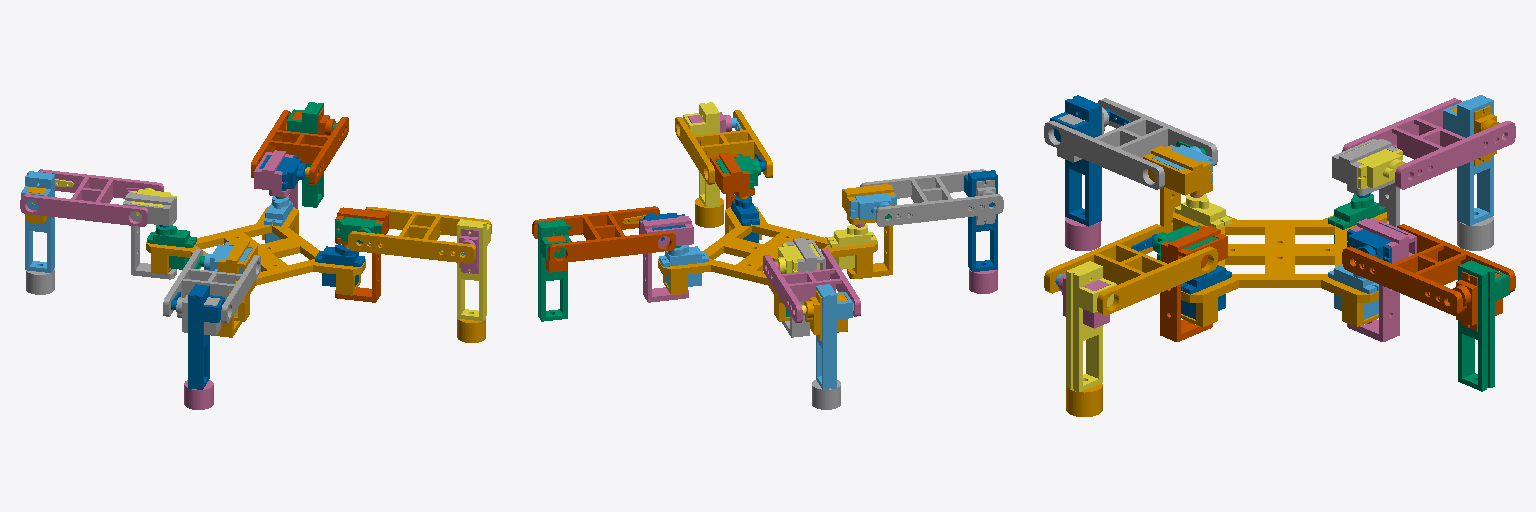
--- Render facts (derived) ---
The picture shows the robot from 3 angles, left to right: view 1: azimuth 30°, elevation 25°; view 2: azimuth 150°, elevation 25°; view 3: azimuth 270°, elevation 25°; orthographic projection.
Model climbingrobot_exported with 49 links and 48 joints (12 continuous, 36 fixed), rooted at base_link, posed all joints at 0.
Visible links, largest first — view 1: base_link, femur31, femur11, femur41, femur21, tibia21, coxa11, tibia11, tibia31, coxa31, tibia41, coxa41 (+11 smaller); view 2: base_link, femur21, femur41, femur31, femur11, tibia11, tibia41, coxa41, tibia21, coxa21, tibia31, coxa31 (+11 smaller); view 3: base_link, femur21, femur31, femur11, femur41, tibia31, tibia41, tibia21, tibia11, coxa31, coxa21, coxa41 (+15 smaller).
Link boxes in pixels (bbox=[...]): base_link: bbox=[146, 207, 365, 321]; femur31: bbox=[348, 207, 491, 263]; femur11: bbox=[20, 169, 163, 226]; femur41: bbox=[251, 110, 348, 184]; femur21: bbox=[163, 248, 260, 322]; tibia21: bbox=[188, 284, 224, 389]; coxa11: bbox=[123, 192, 176, 279]; tibia11: bbox=[21, 171, 54, 272]; tibia31: bbox=[457, 219, 490, 320]; coxa31: bbox=[335, 207, 388, 302]; tibia41: bbox=[287, 102, 323, 207]; coxa41: bbox=[254, 150, 297, 208]; base_link: bbox=[658, 206, 877, 321]; femur21: bbox=[860, 169, 1003, 226]; femur41: bbox=[532, 206, 675, 263]; femur31: bbox=[675, 110, 772, 184]; femur11: bbox=[763, 248, 860, 322]; tibia11: bbox=[816, 284, 852, 389]; tibia41: bbox=[538, 220, 571, 321]; coxa41: bbox=[640, 216, 693, 302]; tibia21: bbox=[964, 170, 997, 271]; coxa21: bbox=[842, 184, 895, 278]; tibia31: bbox=[683, 102, 719, 207]; coxa31: bbox=[710, 152, 754, 208]; base_link: bbox=[1173, 212, 1386, 326]; femur21: bbox=[1044, 98, 1217, 189]; femur31: bbox=[1044, 224, 1217, 315]; femur11: bbox=[1342, 98, 1515, 189]; femur41: bbox=[1342, 224, 1515, 315]; tibia31: bbox=[1066, 261, 1116, 391]; tibia41: bbox=[1458, 260, 1509, 391]; tibia21: bbox=[1050, 95, 1101, 226]; tibia11: bbox=[1443, 95, 1493, 225]; coxa31: bbox=[1160, 226, 1227, 341]; coxa21: bbox=[1143, 146, 1212, 233]; coxa41: bbox=[1347, 218, 1416, 341].
Size in the robot's own frame: 0.2579 by 0.2579 by 0.0852 metres.
48 mesh visuals loaded from 49 distinct referenced files (48 binary STL); not drawn: 1 (reference not matched to a file when rendering).

URDF robot description (climbingrobot_exported):
<?xml version="1.0" ?>
<robot name="climbingrobot_exported">

<material name="silver">
  <color rgba="1.000 1.000 1.000 1.000"/>
</material>

<link name="base_link">
  <inertial>
    <origin rpy="0 0 0" xyz="-2.3561372287310188e-15 7.82959340837108e-17 -1.031082645594673e-05"/>
    <mass value="0.03513113136020855"/>
    <inertia ixx="4.330327731042047e-05" ixy="6.310867961970989e-19" ixz="-3.130730601860279e-19" iyy="4.3346435253627344e-05" iyz="-1.8065631053765598e-18" izz="8.477337904759145e-05"/>
  </inertial>
  <visual>
    <origin rpy="0 0 0" xyz="0 0 0"/>
    <geometry>
      <mesh filename="meshes/base_link.stl" scale="0.001 0.001 0.001"/>
    </geometry>
    <material name="silver"/>
    <material/>
  </visual>
  <collision>
    <origin rpy="0 0 0" xyz="0 0 0"/>
    <geometry>
      <mesh filename="meshes/base_link.stl" scale="0.001 0.001 0.001"/>
    </geometry>
  </collision>
</link>

<link name="SG90_v141servo1">
  <inertial>
    <origin rpy="0 0 0" xyz="0.00812342267848757 0.008123422678486841 -0.004203010355219587"/>
    <mass value="0.01188700094392384"/>
    <inertia ixx="1.0262265710398804e-06" ixy="-2.1220227675882003e-07" ixz="-2.199969893497919e-08" iyy="1.026226571039894e-06" iyz="-2.199969893495203e-08" izz="7.367191028625778e-07"/>
  </inertial>
  <visual>
    <origin rpy="0 0 0" xyz="-0.033879 -0.033879 -0.005"/>
    <geometry>
      <mesh filename="meshes/SG90_v141servo1.stl" scale="0.001 0.001 0.001"/>
    </geometry>
    <material name="silver"/>
    <material/>
  </visual>
  <collision>
    <origin rpy="0 0 0" xyz="-0.033879 -0.033879 -0.005"/>
    <geometry>
      <mesh filename="meshes/SG90_v141servo1.stl" scale="0.001 0.001 0.001"/>
    </geometry>
  </collision>
</link>

<link name="SG90_v142servo1">
  <inertial>
    <origin rpy="0 0 0" xyz="-0.008123422678486716 0.008123422678487376 -0.0042030103552191745"/>
    <mass value="0.01188700094392384"/>
    <inertia ixx="1.0262265710398905e-06" ixy="2.1220227675882342e-07" ixz="2.199969893497543e-08" iyy="1.0262265710398872e-06" iyz="-2.19996989349551e-08" izz="7.367191028625846e-07"/>
  </inertial>
  <visual>
    <origin rpy="0 0 0" xyz="0.033879 -0.033879 -0.005"/>
    <geometry>
      <mesh filename="meshes/SG90_v142servo1.stl" scale="0.001 0.001 0.001"/>
    </geometry>
    <material name="silver"/>
    <material/>
  </visual>
  <collision>
    <origin rpy="0 0 0" xyz="0.033879 -0.033879 -0.005"/>
    <geometry>
      <mesh filename="meshes/SG90_v142servo1.stl" scale="0.001 0.001 0.001"/>
    </geometry>
  </collision>
</link>

<link name="SG90_v143servo1">
  <inertial>
    <origin rpy="0 0 0" xyz="-0.00812342267848764 -0.00812342267848725 -0.004203010355223124"/>
    <mass value="0.01188700094392384"/>
    <inertia ixx="1.0262265710398872e-06" ixy="-2.1220227675882342e-07" ixz="2.1999698934957007e-08" iyy="1.0262265710398905e-06" iyz="2.1999698934981624e-08" izz="7.367191028625846e-07"/>
  </inertial>
  <visual>
    <origin rpy="0 0 0" xyz="0.033879 0.033879 -0.005"/>
    <geometry>
      <mesh filename="meshes/SG90_v143servo1.stl" scale="0.001 0.001 0.001"/>
    </geometry>
    <material name="silver"/>
    <material/>
  </visual>
  <collision>
    <origin rpy="0 0 0" xyz="0.033879 0.033879 -0.005"/>
    <geometry>
      <mesh filename="meshes/SG90_v143servo1.stl" scale="0.001 0.001 0.001"/>
    </geometry>
  </collision>
</link>

<link name="SG90_v144servo1">
  <inertial>
    <origin rpy="0 0 0" xyz="0.00812342267848673 -0.008123422678487695 -0.004203010355223456"/>
    <mass value="0.01188700094392384"/>
    <inertia ixx="1.0262265710398905e-06" ixy="2.122022767588268e-07" ixz="-2.1999698934957377e-08" iyy="1.0262265710398838e-06" iyz="2.1999698934981412e-08" izz="7.367191028625982e-07"/>
  </inertial>
  <visual>
    <origin rpy="0 0 0" xyz="-0.033879 0.033879 -0.005"/>
    <geometry>
      <mesh filename="meshes/SG90_v144servo1.stl" scale="0.001 0.001 0.001"/>
    </geometry>
    <material name="silver"/>
    <material/>
  </visual>
  <collision>
    <origin rpy="0 0 0" xyz="-0.033879 0.033879 -0.005"/>
    <geometry>
      <mesh filename="meshes/SG90_v144servo1.stl" scale="0.001 0.001 0.001"/>
    </geometry>
  </collision>
</link>

<link name="coxa31">
  <inertial>
    <origin rpy="0 0 0" xyz="0.009871266550128203 -0.004775257127175067 -0.004359762984694017"/>
    <mass value="0.007837772837962017"/>
    <inertia ixx="3.729329129582059e-06" ixy="3.1566494508322056e-07" ixz="-1.029336248256677e-07" iyy="3.5502512993738864e-06" iyz="-5.241695255109662e-07" izz="1.2576574418923949e-06"/>
  </inertial>
  <visual>
    <origin rpy="0 0 0" xyz="-0.045723 0.045723 -0.02065"/>
    <geometry>
      <mesh filename="meshes/coxa31.stl" scale="0.001 0.001 0.001"/>
    </geometry>
    <material name="silver"/>
    <material/>
  </visual>
  <collision>
    <origin rpy="0 0 0" xyz="-0.045723 0.045723 -0.02065"/>
    <geometry>
      <mesh filename="meshes/coxa31.stl" scale="0.001 0.001 0.001"/>
    </geometry>
  </collision>
</link>

<link name="coxa41">
  <inertial>
    <origin rpy="0 0 0" xyz="0.0047752571271741165 0.009871266550127197 -0.004359762984689007"/>
    <mass value="0.007837772837962017"/>
    <inertia ixx="3.550251299373822e-06" ixy="-3.156649450832341e-07" ixz="5.241695255110458e-07" iyy="3.7293291295820795e-06" iyz="-1.0293362482555336e-07" izz="1.2576574418924288e-06"/>
  </inertial>
  <visual>
    <origin rpy="0 0 0" xyz="-0.045723 -0.045723 -0.02065"/>
    <geometry>
      <mesh filename="meshes/coxa41.stl" scale="0.001 0.001 0.001"/>
    </geometry>
    <material name="silver"/>
    <material/>
  </visual>
  <collision>
    <origin rpy="0 0 0" xyz="-0.045723 -0.045723 -0.02065"/>
    <geometry>
      <mesh filename="meshes/coxa41.stl" scale="0.001 0.001 0.001"/>
    </geometry>
  </collision>
</link>

<link name="coxa11">
  <inertial>
    <origin rpy="0 0 0" xyz="-0.00987126655012787 0.004775257127173443 -0.004359762984688723"/>
    <mass value="0.007837772837962017"/>
    <inertia ixx="3.7293291295820558e-06" ixy="3.156649450832138e-07" ixz="1.0293362482567618e-07" iyy="3.550251299373785e-06" iyz="5.241695255111737e-07" izz="1.2576574418924965e-06"/>
  </inertial>
  <visual>
    <origin rpy="0 0 0" xyz="0.045723 -0.045723 -0.02065"/>
    <geometry>
      <mesh filename="meshes/coxa11.stl" scale="0.001 0.001 0.001"/>
    </geometry>
    <material name="silver"/>
    <material/>
  </visual>
  <collision>
    <origin rpy="0 0 0" xyz="0.045723 -0.045723 -0.02065"/>
    <geometry>
      <mesh filename="meshes/coxa11.stl" scale="0.001 0.001 0.001"/>
    </geometry>
  </collision>
</link>

<link name="coxa21">
  <inertial>
    <origin rpy="0 0 0" xyz="-0.00477525712717379 -0.009871266550128821 -0.004359762984693972"/>
    <mass value="0.007837772837962017"/>
    <inertia ixx="3.550251299373839e-06" ixy="-3.156649450831833e-07" ixz="-5.241695255110949e-07" iyy="3.729329129582066e-06" iyz="1.0293362482578629e-07" izz="1.257657441892449e-06"/>
  </inertial>
  <visual>
    <origin rpy="0 0 0" xyz="0.045723 0.045723 -0.02065"/>
    <geometry>
      <mesh filename="meshes/coxa21.stl" scale="0.001 0.001 0.001"/>
    </geometry>
    <material name="silver"/>
    <material/>
  </visual>
  <collision>
    <origin rpy="0 0 0" xyz="0.045723 0.045723 -0.02065"/>
    <geometry>
      <mesh filename="meshes/coxa21.stl" scale="0.001 0.001 0.001"/>
    </geometry>
  </collision>
</link>

<link name="SG90_v145servo1">
  <inertial>
    <origin rpy="0 0 0" xyz="0.010934706156326385 0.0049912605619404915 -2.060851489460447e-15"/>
    <mass value="0.01188700094392384"/>
    <inertia ixx="7.442594259698742e-07" ixy="3.865259570924465e-08" ixz="-3.3881317890172014e-21" iyy="8.064839711737707e-07" iyz="-2.710505431213761e-20" izz="1.2384288477987072e-06"/>
  </inertial>
  <visual>
    <origin rpy="0 0 0" xyz="0.062039 0.058009 -0.031025"/>
    <geometry>
      <mesh filename="meshes/SG90_v145servo1.stl" scale="0.001 0.001 0.001"/>
    </geometry>
    <material name="silver"/>
    <material/>
  </visual>
  <collision>
    <origin rpy="0 0 0" xyz="0.062039 0.058009 -0.031025"/>
    <geometry>
      <mesh filename="meshes/SG90_v145servo1.stl" scale="0.001 0.001 0.001"/>
    </geometry>
  </collision>
</link>

<link name="SG90_v146servo1">
  <inertial>
    <origin rpy="0 0 0" xyz="-0.004991260561941942 0.010934706156324386 -2.5431046157819992e-15"/>
    <mass value="0.01188700094392384"/>
    <inertia ixx="8.064839711737707e-07" ixy="-3.865259570925143e-08" ixz="6.776263578034403e-21" iyy="7.442594259698674e-07" iyz="-2.710505431213761e-20" izz="1.2384288477987072e-06"/>
  </inertial>
  <visual>
    <origin rpy="0 0 0" xyz="-0.058009 0.062039 -0.031025"/>
    <geometry>
      <mesh filename="meshes/SG90_v146servo1.stl" scale="0.001 0.001 0.001"/>
    </geometry>
    <material name="silver"/>
    <material/>
  </visual>
  <collision>
    <origin rpy="0 0 0" xyz="-0.058009 0.062039 -0.031025"/>
    <geometry>
      <mesh filename="meshes/SG90_v146servo1.stl" scale="0.001 0.001 0.001"/>
    </geometry>
  </collision>
</link>

<link name="SG90_v147servo1">
  <inertial>
    <origin rpy="0 0 0" xyz="0.004991260561942129 -0.01093470615632746 2.824129818890242e-15"/>
    <mass value="0.01188700094392384"/>
    <inertia ixx="8.064839711737911e-07" ixy="-3.865259570924465e-08" ixz="0.0" iyy="7.442594259698742e-07" iyz="-2.0328790734103208e-20" izz="1.2384288477987072e-06"/>
  </inertial>
  <visual>
    <origin rpy="0 0 0" xyz="0.058009 -0.062039 -0.031025"/>
    <geometry>
      <mesh filename="meshes/SG90_v147servo1.stl" scale="0.001 0.001 0.001"/>
    </geometry>
    <material name="silver"/>
    <material/>
  </visual>
  <collision>
    <origin rpy="0 0 0" xyz="0.058009 -0.062039 -0.031025"/>
    <geometry>
      <mesh filename="meshes/SG90_v147servo1.stl" scale="0.001 0.001 0.001"/>
    </geometry>
  </collision>
</link>

<link name="SG90_v148servo1">
  <inertial>
    <origin rpy="0 0 0" xyz="-0.010934706156326177 -0.004991260561943427 2.4251434194155763e-15"/>
    <mass value="0.01188700094392384"/>
    <inertia ixx="7.44259425969881e-07" ixy="3.8652595709237874e-08" ixz="1.0164395367051604e-20" iyy="8.064839711737978e-07" iyz="-2.0328790734103208e-20" izz="1.2384288477987207e-06"/>
  </inertial>
  <visual>
    <origin rpy="0 0 0" xyz="-0.062039 -0.058009 -0.031025"/>
    <geometry>
      <mesh filename="meshes/SG90_v148servo1.stl" scale="0.001 0.001 0.001"/>
    </geometry>
    <material name="silver"/>
    <material/>
  </visual>
  <collision>
    <origin rpy="0 0 0" xyz="-0.062039 -0.058009 -0.031025"/>
    <geometry>
      <mesh filename="meshes/SG90_v148servo1.stl" scale="0.001 0.001 0.001"/>
    </geometry>
  </collision>
</link>

<link name="femur41">
  <inertial>
    <origin rpy="0 0 0" xyz="0.013365496497606197 0.03828276190210535 -1.5716594692349872e-12"/>
    <mass value="0.012162143940940593"/>
    <inertia ixx="4.834490015586811e-06" ixy="-6.77229227869793e-07" ixz="-2.1760615228141877e-16" iyy="4.831383351298508e-06" iyz="2.5299180068591443e-16" izz="9.304210074741718e-06"/>
  </inertial>
  <visual>
    <origin rpy="0 0 0" xyz="-0.068863 -0.0427 -0.031025"/>
    <geometry>
      <mesh filename="meshes/femur41.stl" scale="0.001 0.001 0.001"/>
    </geometry>
    <material name="silver"/>
    <material/>
  </visual>
  <collision>
    <origin rpy="0 0 0" xyz="-0.068863 -0.0427 -0.031025"/>
    <geometry>
      <mesh filename="meshes/femur41.stl" scale="0.001 0.001 0.001"/>
    </geometry>
  </collision>
</link>

<link name="femur11">
  <inertial>
    <origin rpy="0 0 0" xyz="-0.03828276190210672 0.013365496497604434 -1.570483326718275e-12"/>
    <mass value="0.012162143940940593"/>
    <inertia ixx="4.831383351298495e-06" ixy="6.77229227869793e-07" ixz="-2.531205496938971e-16" iyy="4.834490015586784e-06" iyz="-2.178094401887598e-16" izz="9.304210074741637e-06"/>
  </inertial>
  <visual>
    <origin rpy="0 0 0" xyz="0.0427 -0.068863 -0.031025"/>
    <geometry>
      <mesh filename="meshes/femur11.stl" scale="0.001 0.001 0.001"/>
    </geometry>
    <material name="silver"/>
    <material/>
  </visual>
  <collision>
    <origin rpy="0 0 0" xyz="0.0427 -0.068863 -0.031025"/>
    <geometry>
      <mesh filename="meshes/femur11.stl" scale="0.001 0.001 0.001"/>
    </geometry>
  </collision>
</link>

<link name="femur21">
  <inertial>
    <origin rpy="0 0 0" xyz="-0.013365496497605628 -0.03828276190210851 -1.578032843285726e-12"/>
    <mass value="0.012162143940940593"/>
    <inertia ixx="4.834490015586797e-06" ixy="-6.77229227869793e-07" ixz="2.1757904722710664e-16" iyy="4.831383351298508e-06" iyz="-2.5339160023701846e-16" izz="9.304210074741718e-06"/>
  </inertial>
  <visual>
    <origin rpy="0 0 0" xyz="0.068863 0.0427 -0.031025"/>
    <geometry>
      <mesh filename="meshes/femur21.stl" scale="0.001 0.001 0.001"/>
    </geometry>
    <material name="silver"/>
    <material/>
  </visual>
  <collision>
    <origin rpy="0 0 0" xyz="0.068863 0.0427 -0.031025"/>
    <geometry>
      <mesh filename="meshes/femur21.stl" scale="0.001 0.001 0.001"/>
    </geometry>
  </collision>
</link>

<link name="femur31">
  <inertial>
    <origin rpy="0 0 0" xyz="0.03828276190210718 -0.013365496497608223 -1.5786608131840296e-12"/>
    <mass value="0.012162143940940593"/>
    <inertia ixx="4.831383351298481e-06" ixy="6.772292278697795e-07" ixz="2.5322896991114563e-16" iyy="4.834490015586757e-06" iyz="2.1738253558334364e-16" izz="9.304210074741637e-06"/>
  </inertial>
  <visual>
    <origin rpy="0 0 0" xyz="-0.0427 0.068863 -0.031025"/>
    <geometry>
      <mesh filename="meshes/femur31.stl" scale="0.001 0.001 0.001"/>
    </geometry>
    <material name="silver"/>
    <material/>
  </visual>
  <collision>
    <origin rpy="0 0 0" xyz="-0.0427 0.068863 -0.031025"/>
    <geometry>
      <mesh filename="meshes/femur31.stl" scale="0.001 0.001 0.001"/>
    </geometry>
  </collision>
</link>

<link name="servo_horn31">
  <inertial>
    <origin rpy="0 0 0" xyz="-0.002608204106163345 0.004443229167919324 8.756537162035727e-14"/>
    <mass value="0.00028369670242485873"/>
    <inertia ixx="5.434793407380799e-09" ixy="5.115865249621474e-09" ixz="-9.497356921088843e-20" iyy="7.114597025464578e-09" iyz="6.776263578034403e-20" izz="1.0801986166025414e-08"/>
  </inertial>
  <visual>
    <origin rpy="0 0 0" xyz="-0.094319 0.120482 -0.031025"/>
    <geometry>
      <mesh filename="meshes/servo_horn31.stl" scale="0.001 0.001 0.001"/>
    </geometry>
    <material name="silver"/>
    <material/>
  </visual>
  <collision>
    <origin rpy="0 0 0" xyz="-0.094319 0.120482 -0.031025"/>
    <geometry>
      <mesh filename="meshes/servo_horn31.stl" scale="0.001 0.001 0.001"/>
    </geometry>
  </collision>
</link>

<link name="servo_horn41">
  <inertial>
    <origin rpy="0 0 0" xyz="-0.004443229167921572 -0.0026082041061656347 9.701961456443087e-14"/>
    <mass value="0.00028369670242485873"/>
    <inertia ixx="7.114597025465002e-09" ixy="-5.1158652496218976e-09" ixz="-6.818615225397118e-20" iyy="5.434793407379105e-09" iyz="-9.539708568451558e-20" izz="1.0801986166024567e-08"/>
  </inertial>
  <visual>
    <origin rpy="0 0 0" xyz="-0.120482 -0.094319 -0.031025"/>
    <geometry>
      <mesh filename="meshes/servo_horn41.stl" scale="0.001 0.001 0.001"/>
    </geometry>
    <material name="silver"/>
    <material/>
  </visual>
  <collision>
    <origin rpy="0 0 0" xyz="-0.120482 -0.094319 -0.031025"/>
    <geometry>
      <mesh filename="meshes/servo_horn41.stl" scale="0.001 0.001 0.001"/>
    </geometry>
  </collision>
</link>

<link name="servo_horn11">
  <inertial>
    <origin rpy="0 0 0" xyz="0.002608204106164233 -0.004443229167923127 9.952108581678942e-14"/>
    <mass value="0.00028369670242485873"/>
    <inertia ixx="5.434793407381646e-09" ixy="5.115865249621474e-09" ixz="9.560884392132915e-20" iyy="7.114597025465002e-09" iyz="-6.860966872759833e-20" izz="1.0801986166025414e-08"/>
  </inertial>
  <visual>
    <origin rpy="0 0 0" xyz="0.094319 -0.120482 -0.031025"/>
    <geometry>
      <mesh filename="meshes/servo_horn11.stl" scale="0.001 0.001 0.001"/>
    </geometry>
    <material name="silver"/>
    <material/>
  </visual>
  <collision>
    <origin rpy="0 0 0" xyz="0.094319 -0.120482 -0.031025"/>
    <geometry>
      <mesh filename="meshes/servo_horn11.stl" scale="0.001 0.001 0.001"/>
    </geometry>
  </collision>
</link>

<link name="servo_horn21">
  <inertial>
    <origin rpy="0 0 0" xyz="0.004443229167921059 0.002608204106160708 8.674311269274426e-14"/>
    <mass value="0.00028369670242485873"/>
    <inertia ixx="7.114597025465849e-09" ixy="-5.115865249620627e-09" ixz="6.79743940171576e-20" iyy="5.434793407379105e-09" iyz="9.455005273726128e-20" izz="1.0801986166025414e-08"/>
  </inertial>
  <visual>
    <origin rpy="0 0 0" xyz="0.120482 0.094319 -0.031025"/>
    <geometry>
      <mesh filename="meshes/servo_horn21.stl" scale="0.001 0.001 0.001"/>
    </geometry>
    <material name="silver"/>
    <material/>
  </visual>
  <collision>
    <origin rpy="0 0 0" xyz="0.120482 0.094319 -0.031025"/>
    <geometry>
      <mesh filename="meshes/servo_horn21.stl" scale="0.001 0.001 0.001"/>
    </geometry>
  </collision>
</link>

<link name="SG90_detached_v41servo1">
  <inertial>
    <origin rpy="0 0 0" xyz="-0.011575392200275356 0.011574606660968212 -0.004278813971776114"/>
    <mass value="0.014616430773754501"/>
    <inertia ixx="1.176913486638522e-06" ixy="3.701775929552595e-07" ixz="-9.512408372304464e-08" iyy="1.1769134866494724e-06" iyz="9.512408371862652e-08" izz="1.0612413528235864e-06"/>
  </inertial>
  <visual>
    <origin rpy="0 0 0" xyz="-0.119188 -0.095613 -0.031025"/>
    <geometry>
      <mesh filename="meshes/SG90_detached_v41servo1.stl" scale="0.001 0.001 0.001"/>
    </geometry>
    <material name="silver"/>
    <material/>
  </visual>
  <collision>
    <origin rpy="0 0 0" xyz="-0.119188 -0.095613 -0.031025"/>
    <geometry>
      <mesh filename="meshes/SG90_detached_v41servo1.stl" scale="0.001 0.001 0.001"/>
    </geometry>
  </collision>
</link>

<link name="SG90_detached_v43servo1">
  <inertial>
    <origin rpy="0 0 0" xyz="0.011574606660969808 0.011575392200273496 -0.004278813971786272"/>
    <mass value="0.014616430773754501"/>
    <inertia ixx="1.1769134866494995e-06" ixy="-3.701775929552324e-07" ixz="9.512408371859941e-08" iyy="1.1769134866384948e-06" iyz="9.51240837230853e-08" izz="1.0612413528236406e-06"/>
  </inertial>
  <visual>
    <origin rpy="0 0 0" xyz="-0.095613 0.119188 -0.031025"/>
    <geometry>
      <mesh filename="meshes/SG90_detached_v43servo1.stl" scale="0.001 0.001 0.001"/>
    </geometry>
    <material name="silver"/>
    <material/>
  </visual>
  <collision>
    <origin rpy="0 0 0" xyz="-0.095613 0.119188 -0.031025"/>
    <geometry>
      <mesh filename="meshes/SG90_detached_v43servo1.stl" scale="0.001 0.001 0.001"/>
    </geometry>
  </collision>
</link>

<link name="SG90_detached_v42servo1">
  <inertial>
    <origin rpy="0 0 0" xyz="0.011575392200275356 -0.011574606660972958 -0.004278813971787462"/>
    <mass value="0.014616430773754501"/>
    <inertia ixx="1.176913486638549e-06" ixy="3.701775929552324e-07" ixz="9.512408372307852e-08" iyy="1.1769134866495537e-06" iyz="-9.512408371862652e-08" izz="1.0612413528236948e-06"/>
  </inertial>
  <visual>
    <origin rpy="0 0 0" xyz="0.119188 0.095613 -0.031025"/>
    <geometry>
      <mesh filename="meshes/SG90_detached_v42servo1.stl" scale="0.001 0.001 0.001"/>
    </geometry>
    <material name="silver"/>
    <material/>
  </visual>
  <collision>
    <origin rpy="0 0 0" xyz="0.119188 0.095613 -0.031025"/>
    <geometry>
      <mesh filename="meshes/SG90_detached_v42servo1.stl" scale="0.001 0.001 0.001"/>
    </geometry>
  </collision>
</link>

<link name="SG90_detached_v44servo1">
  <inertial>
    <origin rpy="0 0 0" xyz="-0.0115746066609691 -0.01157539220027691 -0.004278813971774792"/>
    <mass value="0.014616430773754501"/>
    <inertia ixx="1.1769134866494724e-06" ixy="-3.701775929552324e-07" ixz="-9.512408371862652e-08" iyy="1.1769134866385761e-06" iyz="-9.512408372307175e-08" izz="1.0612413528236948e-06"/>
  </inertial>
  <visual>
    <origin rpy="0 0 0" xyz="0.095613 -0.119188 -0.031025"/>
    <geometry>
      <mesh filename="meshes/SG90_detached_v44servo1.stl" scale="0.001 0.001 0.001"/>
    </geometry>
    <material name="silver"/>
    <material/>
  </visual>
  <collision>
    <origin rpy="0 0 0" xyz="0.095613 -0.119188 -0.031025"/>
    <geometry>
      <mesh filename="meshes/SG90_detached_v44servo1.stl" scale="0.001 0.001 0.001"/>
    </geometry>
  </collision>
</link>

<link name="tibia11">
  <inertial>
    <origin rpy="0 0 0" xyz="-0.003471671715291502 -0.0037763509234774034 -0.025561054706875162"/>
    <mass value="0.007707264333040497"/>
    <inertia ixx="3.607355199205736e-06" ixy="7.352659326611448e-08" ixz="1.7136019275137177e-07" iyy="3.613256803894753e-06" iyz="1.5999588737877806e-07" izz="5.37022351107671e-07"/>
  </inertial>
  <visual>
    <origin rpy="0 0 0" xyz="0.105385 -0.109415 -0.039325"/>
    <geometry>
      <mesh filename="meshes/tibia11.stl" scale="0.001 0.001 0.001"/>
    </geometry>
    <material name="silver"/>
    <material/>
  </visual>
  <collision>
    <origin rpy="0 0 0" xyz="0.105385 -0.109415 -0.039325"/>
    <geometry>
      <mesh filename="meshes/tibia11.stl" scale="0.001 0.001 0.001"/>
    </geometry>
  </collision>
</link>

<link name="tibia41">
  <inertial>
    <origin rpy="0 0 0" xyz="-0.0037763509234768483 0.0034716717152898785 -0.025461054706881196"/>
    <mass value="0.007707264333040497"/>
    <inertia ixx="3.6132568038947665e-06" ixy="-7.352659326612804e-08" ixz="1.599958873786222e-07" iyy="3.6073551992057225e-06" iyz="-1.713601927512803e-07" izz="5.370223511076168e-07"/>
  </inertial>
  <visual>
    <origin rpy="0 0 0" xyz="-0.109415 -0.105385 -0.039325"/>
    <geometry>
      <mesh filename="meshes/tibia41.stl" scale="0.001 0.001 0.001"/>
    </geometry>
    <material name="silver"/>
    <material/>
  </visual>
  <collision>
    <origin rpy="0 0 0" xyz="-0.109415 -0.105385 -0.039325"/>
    <geometry>
      <mesh filename="meshes/tibia41.stl" scale="0.001 0.001 0.001"/>
    </geometry>
  </collision>
</link>

<link name="tibia31">
  <inertial>
    <origin rpy="0 0 0" xyz="0.0034716717152918353 0.003776350923475183 -0.0255610547068865"/>
    <mass value="0.007707264333040497"/>
    <inertia ixx="3.6073551992057225e-06" ixy="7.352659326612804e-08" ixz="-1.713601927514192e-07" iyy="3.6132568038947936e-06" iyz="-1.5999588737849854e-07" izz="5.370223511076168e-07"/>
  </inertial>
  <visual>
    <origin rpy="0 0 0" xyz="-0.105385 0.109415 -0.039325"/>
    <geometry>
      <mesh filename="meshes/tibia31.stl" scale="0.001 0.001 0.001"/>
    </geometry>
    <material name="silver"/>
    <material/>
  </visual>
  <collision>
    <origin rpy="0 0 0" xyz="-0.105385 0.109415 -0.039325"/>
    <geometry>
      <mesh filename="meshes/tibia31.stl" scale="0.001 0.001 0.001"/>
    </geometry>
  </collision>
</link>

<link name="tibia21">
  <inertial>
    <origin rpy="0 0 0" xyz="0.0037763509234763487 -0.0034716717152955823 -0.025461054706887743"/>
    <mass value="0.007707264333040497"/>
    <inertia ixx="3.61325680389478e-06" ixy="-7.352659326611448e-08" ixz="-1.59995887378651e-07" iyy="3.607355199205736e-06" iyz="1.7136019275141243e-07" izz="5.370223511076168e-07"/>
  </inertial>
  <visual>
    <origin rpy="0 0 0" xyz="0.109415 0.105385 -0.039325"/>
    <geometry>
      <mesh filename="meshes/tibia21.stl" scale="0.001 0.001 0.001"/>
    </geometry>
    <material name="silver"/>
    <material/>
  </visual>
  <collision>
    <origin rpy="0 0 0" xyz="0.109415 0.105385 -0.039325"/>
    <geometry>
      <mesh filename="meshes/tibia21.stl" scale="0.001 0.001 0.001"/>
    </geometry>
  </collision>
</link>

<link name="magnet41">
  <inertial>
    <origin rpy="0 0 0" xyz="-4.461602763350392e-07 -3.3937910129400173e-07 -0.007545429850782305"/>
    <mass value="0.01248016344329056"/>
    <inertia ixx="5.52965472682261e-07" ixy="2.3201926491189795e-17" ixz="-1.3552527156068805e-19" iyy="5.52965472682261e-07" iyz="1.2874900798265365e-19" izz="6.358392451507743e-07"/>
  </inertial>
  <visual>
    <origin rpy="0 0 0" xyz="-0.107047 -0.107754 0.026025"/>
    <geometry>
      <mesh filename="meshes/magnet41.stl" scale="0.001 0.001 0.001"/>
    </geometry>
    <material name="silver"/>
    <material/>
  </visual>
  <collision>
    <origin rpy="0 0 0" xyz="-0.107047 -0.107754 0.026025"/>
    <geometry>
      <mesh filename="meshes/magnet41.stl" scale="0.001 0.001 0.001"/>
    </geometry>
  </collision>
</link>

<link name="magnet21">
  <inertial>
    <origin rpy="0 0 0" xyz="4.461602755301275e-07 3.3937909774128805e-07 -0.007545429850788772"/>
    <mass value="0.01248016344329056"/>
    <inertia ixx="5.52965472682261e-07" ixy="2.3174821436877657e-17" ixz="1.1519648082658485e-19" iyy="5.529654726823153e-07" iyz="-1.4230153513872246e-19" izz="6.358392451507743e-07"/>
  </inertial>
  <visual>
    <origin rpy="0 0 0" xyz="0.107047 0.107754 0.026025"/>
    <geometry>
      <mesh filename="meshes/magnet21.stl" scale="0.001 0.001 0.001"/>
    </geometry>
    <material name="silver"/>
    <material/>
  </visual>
  <collision>
    <origin rpy="0 0 0" xyz="0.107047 0.107754 0.026025"/>
    <geometry>
      <mesh filename="meshes/magnet21.stl" scale="0.001 0.001 0.001"/>
    </geometry>
  </collision>
</link>

<link name="magnet11">
  <inertial>
    <origin rpy="0 0 0" xyz="3.3937909088566087e-07 -4.4616027435051553e-07 -0.007545429850776223"/>
    <mass value="0.01248016344329056"/>
    <inertia ixx="5.529654726822339e-07" ixy="2.3174821436877657e-17" ixz="1.3552527156068805e-19" iyy="5.52965472682261e-07" iyz="-1.4907779871675686e-19" izz="6.358392451507201e-07"/>
  </inertial>
  <visual>
    <origin rpy="0 0 0" xyz="0.107754 -0.107047 0.026125"/>
    <geometry>
      <mesh filename="meshes/magnet11.stl" scale="0.001 0.001 0.001"/>
    </geometry>
    <material name="silver"/>
    <material/>
  </visual>
  <collision>
    <origin rpy="0 0 0" xyz="0.107754 -0.107047 0.026125"/>
    <geometry>
      <mesh filename="meshes/magnet11.stl" scale="0.001 0.001 0.001"/>
    </geometry>
  </collision>
</link>

<link name="magnet31">
  <inertial>
    <origin rpy="0 0 0" xyz="-3.393791015715575e-07 4.4616028682664677e-07 -0.0075454298507876445"/>
    <mass value="0.01248016344329056"/>
    <inertia ixx="5.529654726823153e-07" ixy="2.3229031545501932e-17" ixz="1.3552527156068805e-19" iyy="5.529654726822339e-07" iyz="-1.3552527156068805e-19" izz="6.358392451507201e-07"/>
  </inertial>
  <visual>
    <origin rpy="0 0 0" xyz="-0.107754 0.107047 0.026125"/>
    <geometry>
      <mesh filename="meshes/magnet31.stl" scale="0.001 0.001 0.001"/>
    </geometry>
    <material name="silver"/>
    <material/>
  </visual>
  <collision>
    <origin rpy="0 0 0" xyz="-0.107754 0.107047 0.026125"/>
    <geometry>
      <mesh filename="meshes/magnet31.stl" scale="0.001 0.001 0.001"/>
    </geometry>
  </collision>
</link>

<link name="SG90_v141splined-drive1">
  <inertial>
    <origin rpy="0 0 0" xyz="-2.817588681536254e-07 -2.8175848913042367e-07 0.008551853418244874"/>
    <mass value="0.00272942982983066"/>
    <inertia ixx="7.317000853884175e-08" ixy="5.516971225021962e-16" ixz="2.9010878443459787e-20" iyy="7.317000853884344e-08" iyz="-2.6977999370049466e-19" izz="8.5716164647608e-09"/>
  </inertial>
  <visual>
    <origin rpy="0 0 0" xyz="-0.045723 -0.045723 -0.0011"/>
    <geometry>
      <mesh filename="meshes/SG90_v141splined-drive1.stl" scale="0.001 0.001 0.001"/>
    </geometry>
    <material name="silver"/>
    <material/>
  </visual>
  <collision>
    <origin rpy="0 0 0" xyz="-0.045723 -0.045723 -0.0011"/>
    <geometry>
      <mesh filename="meshes/SG90_v141splined-drive1.stl" scale="0.001 0.001 0.001"/>
    </geometry>
  </collision>
</link>

<link name="SG90_v141horn1">
  <inertial>
    <origin rpy="0 0 0" xyz="0.0035250421087357 0.0035250421086019945 0.000532476051368757"/>
    <mass value="0.00028369670242485873"/>
    <inertia ixx="5.980408066528299e-09" ixy="-4.821578099611888e-09" ixz="-5.939002646914894e-10" iyy="5.980408066298436e-09" iyz="-5.939002647185944e-10" izz="1.1390560466043528e-08"/>
  </inertial>
  <visual>
    <origin rpy="0 0 0" xyz="-0.045723 -0.045723 -0.01882"/>
    <geometry>
      <mesh filename="meshes/SG90_v141horn1.stl" scale="0.001 0.001 0.001"/>
    </geometry>
    <material name="silver"/>
    <material/>
  </visual>
  <collision>
    <origin rpy="0 0 0" xyz="-0.045723 -0.045723 -0.01882"/>
    <geometry>
      <mesh filename="meshes/SG90_v141horn1.stl" scale="0.001 0.001 0.001"/>
    </geometry>
  </collision>
</link>

<link name="SG90_v142splined-drive1">
  <inertial>
    <origin rpy="0 0 0" xyz="2.8175848865164e-07 -2.8175886863934796e-07 0.0085518534182453"/>
    <mass value="0.00272942982983066"/>
    <inertia ixx="7.317000853883751e-08" ixy="-5.516954284363017e-16" ixz="2.72109334305444e-19" iyy="7.317000853883836e-08" iyz="3.197549375884984e-20" izz="8.5716164647608e-09"/>
  </inertial>
  <visual>
    <origin rpy="0 0 0" xyz="0.045723 -0.045723 -0.0011"/>
    <geometry>
      <mesh filename="meshes/SG90_v142splined-drive1.stl" scale="0.001 0.001 0.001"/>
    </geometry>
    <material name="silver"/>
    <material/>
  </visual>
  <collision>
    <origin rpy="0 0 0" xyz="0.045723 -0.045723 -0.0011"/>
    <geometry>
      <mesh filename="meshes/SG90_v142splined-drive1.stl" scale="0.001 0.001 0.001"/>
    </geometry>
  </collision>
</link>

<link name="SG90_v142horn1">
  <inertial>
    <origin rpy="0 0 0" xyz="-0.0035250421086024455 0.003525042108734555 0.000532476051369319"/>
    <mass value="0.00028369670242485873"/>
    <inertia ixx="5.980408066297906e-09" ixy="4.821578099611994e-09" ixz="5.939002647184885e-10" iyy="5.980408066528829e-09" iyz="-5.939002646916482e-10" izz="1.139056046604374e-08"/>
  </inertial>
  <visual>
    <origin rpy="0 0 0" xyz="0.045723 -0.045723 -0.01882"/>
    <geometry>
      <mesh filename="meshes/SG90_v142horn1.stl" scale="0.001 0.001 0.001"/>
    </geometry>
    <material name="silver"/>
    <material/>
  </visual>
  <collision>
    <origin rpy="0 0 0" xyz="0.045723 -0.045723 -0.01882"/>
    <geometry>
      <mesh filename="meshes/SG90_v142horn1.stl" scale="0.001 0.001 0.001"/>
    </geometry>
  </collision>
</link>

<link name="SG90_v143splined-drive1">
  <inertial>
    <origin rpy="0 0 0" xyz="2.817588682230143e-07 2.8175848768713374e-07 0.008551853418240971"/>
    <mass value="0.00272942982983066"/>
    <inertia ixx="7.31700085388409e-08" ixy="5.516954284363017e-16" ixz="-2.922263668027336e-20" iyy="7.317000853884175e-08" iyz="2.7592098256808834e-19" izz="8.571616464762494e-09"/>
  </inertial>
  <visual>
    <origin rpy="0 0 0" xyz="0.045723 0.045723 -0.0011"/>
    <geometry>
      <mesh filename="meshes/SG90_v143splined-drive1.stl" scale="0.001 0.001 0.001"/>
    </geometry>
    <material name="silver"/>
    <material/>
  </visual>
  <collision>
    <origin rpy="0 0 0" xyz="0.045723 0.045723 -0.0011"/>
    <geometry>
      <mesh filename="meshes/SG90_v143splined-drive1.stl" scale="0.001 0.001 0.001"/>
    </geometry>
  </collision>
</link>

<link name="SG90_v143horn1">
  <inertial>
    <origin rpy="0 0 0" xyz="-0.0035250421087356237 -0.0035250421086035835 0.0005324760513646075"/>
    <mass value="0.00028369670242485873"/>
    <inertia ixx="5.980408066527982e-09" ixy="-4.821578099611994e-09" ixz="5.939002646911717e-10" iyy="5.980408066298118e-09" iyz="5.939002647180121e-10" izz="1.1390560466043528e-08"/>
  </inertial>
  <visual>
    <origin rpy="0 0 0" xyz="0.045723 0.045723 -0.01882"/>
    <geometry>
      <mesh filename="meshes/SG90_v143horn1.stl" scale="0.001 0.001 0.001"/>
    </geometry>
    <material name="silver"/>
    <material/>
  </visual>
  <collision>
    <origin rpy="0 0 0" xyz="0.045723 0.045723 -0.01882"/>
    <geometry>
      <mesh filename="meshes/SG90_v143horn1.stl" scale="0.001 0.001 0.001"/>
    </geometry>
  </collision>
</link>

<link name="SG90_v144splined-drive1">
  <inertial>
    <origin rpy="0 0 0" xyz="-2.817584882769397e-07 2.817588676679028e-07 0.008551853418240623"/>
    <mass value="0.00272942982983066"/>
    <inertia ixx="7.317000853884175e-08" ixy="-5.516945814033544e-16" ixz="-2.727446090158847e-19" iyy="7.317000853884344e-08" iyz="-2.583450489125616e-20" izz="8.571616464762494e-09"/>
  </inertial>
  <visual>
    <origin rpy="0 0 0" xyz="-0.045723 0.045723 -0.0011"/>
    <geometry>
      <mesh filename="meshes/SG90_v144splined-drive1.stl" scale="0.001 0.001 0.001"/>
    </geometry>
    <material name="silver"/>
    <material/>
  </visual>
  <collision>
    <origin rpy="0 0 0" xyz="-0.045723 0.045723 -0.0011"/>
    <geometry>
      <mesh filename="meshes/SG90_v144splined-drive1.stl" scale="0.001 0.001 0.001"/>
    </geometry>
  </collision>
</link>

<link name="SG90_v144horn1">
  <inertial>
    <origin rpy="0 0 0" xyz="0.0035250421086025913 -0.0035250421087369282 0.0005324760513640524"/>
    <mass value="0.00028369670242485873"/>
    <inertia ixx="5.980408066297695e-09" ixy="4.8215780996121e-09" ixz="-5.939002647180121e-10" iyy="5.9804080665281934e-09" iyz="5.939002646910129e-10" izz="1.139056046604374e-08"/>
  </inertial>
  <visual>
    <origin rpy="0 0 0" xyz="-0.045723 0.045723 -0.01882"/>
    <geometry>
      <mesh filename="meshes/SG90_v144horn1.stl" scale="0.001 0.001 0.001"/>
    </geometry>
    <material name="silver"/>
    <material/>
  </visual>
  <collision>
    <origin rpy="0 0 0" xyz="-0.045723 0.045723 -0.01882"/>
    <geometry>
      <mesh filename="meshes/SG90_v144horn1.stl" scale="0.001 0.001 0.001"/>
    </geometry>
  </collision>
</link>

<link name="SG90_v145splined-drive1">
  <inertial>
    <origin rpy="0 0 0" xyz="-0.006046923627207851 0.0060472992198054715 2.671543541943322e-13"/>
    <mass value="0.00272942982983066"/>
    <inertia ixx="4.087081277747746e-08" ixy="3.229919631288607e-08" ixz="1.5161889755851976e-19" iyy="4.087081277782305e-08" iyz="-1.5161889755851976e-19" izz="7.317000798714716e-08"/>
  </inertial>
  <visual>
    <origin rpy="0 0 0" xyz="0.055039 0.056524 -0.031025"/>
    <geometry>
      <mesh filename="meshes/SG90_v145splined-drive1.stl" scale="0.001 0.001 0.001"/>
    </geometry>
    <material name="silver"/>
    <material/>
  </visual>
  <collision>
    <origin rpy="0 0 0" xyz="0.055039 0.056524 -0.031025"/>
    <geometry>
      <mesh filename="meshes/SG90_v145splined-drive1.stl" scale="0.001 0.001 0.001"/>
    </geometry>
  </collision>
</link>

<link name="SG90_v145horn1">
  <inertial>
    <origin rpy="0 0 0" xyz="-0.003901623540168861 -0.0031486486019284277 -9.529182998235797e-14"/>
    <mass value="0.00028369670242485873"/>
    <inertia ixx="5.43479340738027e-09" ixy="-5.115865249621474e-09" ixz="9.444417361885449e-20" iyy="7.114597025465002e-09" iyz="6.728617974751348e-20" izz="1.0801986166025414e-08"/>
  </inertial>
  <visual>
    <origin rpy="0 0 0" xyz="0.067569 0.043994 -0.031025"/>
    <geometry>
      <mesh filename="meshes/SG90_v145horn1.stl" scale="0.001 0.001 0.001"/>
    </geometry>
    <material name="silver"/>
    <material/>
  </visual>
  <collision>
    <origin rpy="0 0 0" xyz="0.067569 0.043994 -0.031025"/>
    <geometry>
      <mesh filename="meshes/SG90_v145horn1.stl" scale="0.001 0.001 0.001"/>
    </geometry>
  </collision>
</link>

<link name="SG90_v146splined-drive1">
  <inertial>
    <origin rpy="0 0 0" xyz="-0.006047299219807241 -0.006046923627209509 2.660267839349473e-13"/>
    <mass value="0.00272942982983066"/>
    <inertia ixx="4.0870812777819664e-08" ixy="-3.2299196312884375e-08" ixz="1.5077186461126546e-19" iyy="4.0870812777474074e-08" iyz="1.4823076576950256e-19" izz="7.317000798714716e-08"/>
  </inertial>
  <visual>
    <origin rpy="0 0 0" xyz="-0.056524 0.055039 -0.031025"/>
    <geometry>
      <mesh filename="meshes/SG90_v146splined-drive1.stl" scale="0.001 0.001 0.001"/>
    </geometry>
    <material name="silver"/>
    <material/>
  </visual>
  <collision>
    <origin rpy="0 0 0" xyz="-0.056524 0.055039 -0.031025"/>
    <geometry>
      <mesh filename="meshes/SG90_v146splined-drive1.stl" scale="0.001 0.001 0.001"/>
    </geometry>
  </collision>
</link>

<link name="SG90_v146horn1">
  <inertial>
    <origin rpy="0 0 0" xyz="0.0031486486019269427 -0.0039016235401708316 -9.674205880827458e-14"/>
    <mass value="0.00028369670242485873"/>
    <inertia ixx="7.1145970254652135e-09" ixy="5.115865249621474e-09" ixz="-6.744499842512366e-20" iyy="5.434793407379952e-09" iyz="9.476181097407485e-20" izz="1.0801986166025838e-08"/>
  </inertial>
  <visual>
    <origin rpy="0 0 0" xyz="-0.043994 0.067569 -0.031025"/>
    <geometry>
      <mesh filename="meshes/SG90_v146horn1.stl" scale="0.001 0.001 0.001"/>
    </geometry>
    <material name="silver"/>
    <material/>
  </visual>
  <collision>
    <origin rpy="0 0 0" xyz="-0.043994 0.067569 -0.031025"/>
    <geometry>
      <mesh filename="meshes/SG90_v146horn1.stl" scale="0.001 0.001 0.001"/>
    </geometry>
  </collision>
</link>

<link name="SG90_v147splined-drive1">
  <inertial>
    <origin rpy="0 0 0" xyz="0.0060472992198079695 0.006046923627206206 2.722926051301755e-13"/>
    <mass value="0.00272942982983066"/>
    <inertia ixx="4.087081277782644e-08" ixy="-3.2299196312884375e-08" ixz="-1.5161889755851976e-19" iyy="4.087081277747577e-08" iyz="-1.5500702934753696e-19" izz="7.317000798714378e-08"/>
  </inertial>
  <visual>
    <origin rpy="0 0 0" xyz="0.056524 -0.055039 -0.031025"/>
    <geometry>
      <mesh filename="meshes/SG90_v147splined-drive1.stl" scale="0.001 0.001 0.001"/>
    </geometry>
    <material name="silver"/>
    <material/>
  </visual>
  <collision>
    <origin rpy="0 0 0" xyz="0.056524 -0.055039 -0.031025"/>
    <geometry>
      <mesh filename="meshes/SG90_v147splined-drive1.stl" scale="0.001 0.001 0.001"/>
    </geometry>
  </collision>
</link>

<link name="SG90_v147horn1">
  <inertial>
    <origin rpy="0 0 0" xyz="-0.0031486486019263876 0.0039016235401676536 -8.968520370800093e-14"/>
    <mass value="0.00028369670242485873"/>
    <inertia ixx="7.114597025465425e-09" ixy="5.115865249621474e-09" ixz="6.855672916839493e-20" iyy="5.434793407379317e-09" iyz="-9.5185327447702e-20" izz="1.0801986166024991e-08"/>
  </inertial>
  <visual>
    <origin rpy="0 0 0" xyz="0.043994 -0.067569 -0.031025"/>
    <geometry>
      <mesh filename="meshes/SG90_v147horn1.stl" scale="0.001 0.001 0.001"/>
    </geometry>
    <material name="silver"/>
    <material/>
  </visual>
  <collision>
    <origin rpy="0 0 0" xyz="0.043994 -0.067569 -0.031025"/>
    <geometry>
      <mesh filename="meshes/SG90_v147horn1.stl" scale="0.001 0.001 0.001"/>
    </geometry>
  </collision>
</link>

<link name="SG90_v148splined-drive1">
  <inertial>
    <origin rpy="0 0 0" xyz="0.006046923627207941 -0.006047299219808559 2.7124830159763746e-13"/>
    <mass value="0.00272942982983066"/>
    <inertia ixx="4.087081277747238e-08" ixy="3.229919631288268e-08" ixz="-1.4992483166401116e-19" iyy="4.087081277781458e-08" iyz="1.4992483166401116e-19" izz="7.317000798714039e-08"/>
  </inertial>
  <visual>
    <origin rpy="0 0 0" xyz="-0.055039 -0.056524 -0.031025"/>
    <geometry>
      <mesh filename="meshes/SG90_v148splined-drive1.stl" scale="0.001 0.001 0.001"/>
    </geometry>
    <material name="silver"/>
    <material/>
  </visual>
  <collision>
    <origin rpy="0 0 0" xyz="-0.055039 -0.056524 -0.031025"/>
    <geometry>
      <mesh filename="meshes/SG90_v148splined-drive1.stl" scale="0.001 0.001 0.001"/>
    </geometry>
  </collision>
</link>

<link name="SG90_v148horn1">
  <inertial>
    <origin rpy="0 0 0" xyz="0.0039016235401694715 0.0031486486019252705 -9.160727731938323e-14"/>
    <mass value="0.00028369670242485873"/>
    <inertia ixx="5.4347934073797405e-09" ixy="-5.115865249621474e-09" ixz="-9.550296480292236e-20" iyy="7.114597025464155e-09" iyz="-6.755087754353045e-20" izz="1.0801986166024144e-08"/>
  </inertial>
  <visual>
    <origin rpy="0 0 0" xyz="-0.067569 -0.043994 -0.031025"/>
    <geometry>
      <mesh filename="meshes/SG90_v148horn1.stl" scale="0.001 0.001 0.001"/>
    </geometry>
    <material name="silver"/>
    <material/>
  </visual>
  <collision>
    <origin rpy="0 0 0" xyz="-0.067569 -0.043994 -0.031025"/>
    <geometry>
      <mesh filename="meshes/SG90_v148horn1.stl" scale="0.001 0.001 0.001"/>
    </geometry>
  </collision>
</link>

<joint name="Rigid28" type="fixed">
  <origin rpy="0 0 0" xyz="0.033879 0.033879 0.005"/>
  <parent link="base_link"/>
  <child link="SG90_v141servo1"/>
</joint>

<joint name="Rigid29" type="fixed">
  <origin rpy="0 0 0" xyz="-0.033879 0.033879 0.005"/>
  <parent link="base_link"/>
  <child link="SG90_v142servo1"/>
</joint>

<joint name="Rigid30" type="fixed">
  <origin rpy="0 0 0" xyz="-0.033879 -0.033879 0.005"/>
  <parent link="base_link"/>
  <child link="SG90_v143servo1"/>
</joint>

<joint name="Rigid31" type="fixed">
  <origin rpy="0 0 0" xyz="0.033879 -0.033879 0.005"/>
  <parent link="base_link"/>
  <child link="SG90_v144servo1"/>
</joint>

<joint name="Rigid32" type="fixed">
  <origin rpy="0 0 0" xyz="0.0 0.0 0.00183"/>
  <parent link="SG90_v144horn1"/>
  <child link="coxa31"/>
</joint>

<joint name="Rigid33" type="fixed">
  <origin rpy="0 0 0" xyz="0.0 0.0 0.00183"/>
  <parent link="SG90_v141horn1"/>
  <child link="coxa41"/>
</joint>

<joint name="Rigid34" type="fixed">
  <origin rpy="0 0 0" xyz="0.0 0.0 0.00183"/>
  <parent link="SG90_v142horn1"/>
  <child link="coxa11"/>
</joint>

<joint name="Rigid35" type="fixed">
  <origin rpy="0 0 0" xyz="0.0 0.0 0.00183"/>
  <parent link="SG90_v143horn1"/>
  <child link="coxa21"/>
</joint>

<joint name="Rigid36" type="fixed">
  <origin rpy="0 0 0" xyz="-0.016316 -0.012286 0.010375"/>
  <parent link="coxa21"/>
  <child link="SG90_v145servo1"/>
</joint>

<joint name="Rigid37" type="fixed">
  <origin rpy="0 0 0" xyz="0.012286 -0.016316 0.010375"/>
  <parent link="coxa31"/>
  <child link="SG90_v146servo1"/>
</joint>

<joint name="Rigid38" type="fixed">
  <origin rpy="0 0 0" xyz="-0.012286 0.016316 0.010375"/>
  <parent link="coxa11"/>
  <child link="SG90_v147servo1"/>
</joint>

<joint name="Rigid39" type="fixed">
  <origin rpy="0 0 0" xyz="0.016316 0.012286 0.010375"/>
  <parent link="coxa41"/>
  <child link="SG90_v148servo1"/>
</joint>

<joint name="Rigid40" type="fixed">
  <origin rpy="0 0 0" xyz="0.001294 -0.001294 0.0"/>
  <parent link="SG90_v148horn1"/>
  <child link="femur41"/>
</joint>

<joint name="Rigid41" type="fixed">
  <origin rpy="0 0 0" xyz="0.001294 0.001294 0.0"/>
  <parent link="SG90_v147horn1"/>
  <child link="femur11"/>
</joint>

<joint name="Rigid42" type="fixed">
  <origin rpy="0 0 0" xyz="-0.001294 0.001294 0.0"/>
  <parent link="SG90_v145horn1"/>
  <child link="femur21"/>
</joint>

<joint name="Rigid43" type="fixed">
  <origin rpy="0 0 0" xyz="-0.001294 -0.001294 0.0"/>
  <parent link="SG90_v146horn1"/>
  <child link="femur31"/>
</joint>

<joint name="Rigid56" type="fixed">
  <origin rpy="0 0 0" xyz="0.051619 -0.051619 0.0"/>
  <parent link="femur31"/>
  <child link="servo_horn31"/>
</joint>

<joint name="Rigid57" type="fixed">
  <origin rpy="0 0 0" xyz="0.051619 0.051619 0.0"/>
  <parent link="femur41"/>
  <child link="servo_horn41"/>
</joint>

<joint name="Rigid58" type="fixed">
  <origin rpy="0 0 0" xyz="-0.051619 0.051619 0.0"/>
  <parent link="femur11"/>
  <child link="servo_horn11"/>
</joint>

<joint name="Rigid59" type="fixed">
  <origin rpy="0 0 0" xyz="-0.051619 -0.051619 0.0"/>
  <parent link="femur21"/>
  <child link="servo_horn21"/>
</joint>

<joint name="Rev60" type="continuous">
  <origin rpy="0 0 0" xyz="-0.001294 0.001294 0.0"/>
  <parent link="servo_horn41"/>
  <child link="SG90_detached_v41servo1"/>
  <axis xyz="-0.707107 0.707107 0.0"/>
</joint>
<transmission name="Rev60_tran">
  <type>transmission_interface/SimpleTransmission</type>
  <joint name="Rev60">
    <hardwareInterface>PositionJointInterface</hardwareInterface>
  </joint>
  <actuator name="Rev60_actr">
    <hardwareInterface>PositionJointInterface</hardwareInterface>
    <mechanicalReduction>1</mechanicalReduction>
  </actuator>
</transmission>

<joint name="Rev61" type="continuous">
  <origin rpy="0 0 0" xyz="0.001294 0.001294 0.0"/>
  <parent link="servo_horn31"/>
  <child link="SG90_detached_v43servo1"/>
  <axis xyz="0.707107 0.707107 -0.0"/>
</joint>
<transmission name="Rev61_tran">
  <type>transmission_interface/SimpleTransmission</type>
  <joint name="Rev61">
    <hardwareInterface>PositionJointInterface</hardwareInterface>
  </joint>
  <actuator name="Rev61_actr">
    <hardwareInterface>PositionJointInterface</hardwareInterface>
    <mechanicalReduction>1</mechanicalReduction>
  </actuator>
</transmission>

<joint name="Rev62" type="continuous">
  <origin rpy="0 0 0" xyz="0.001294 -0.001294 0.0"/>
  <parent link="servo_horn21"/>
  <child link="SG90_detached_v42servo1"/>
  <axis xyz="0.707107 -0.707107 -0.0"/>
</joint>
<transmission name="Rev62_tran">
  <type>transmission_interface/SimpleTransmission</type>
  <joint name="Rev62">
    <hardwareInterface>PositionJointInterface</hardwareInterface>
  </joint>
  <actuator name="Rev62_actr">
    <hardwareInterface>PositionJointInterface</hardwareInterface>
    <mechanicalReduction>1</mechanicalReduction>
  </actuator>
</transmission>

<joint name="Rev63" type="continuous">
  <origin rpy="0 0 0" xyz="-0.001294 -0.001294 0.0"/>
  <parent link="servo_horn11"/>
  <child link="SG90_detached_v44servo1"/>
  <axis xyz="-0.707107 -0.707107 -0.0"/>
</joint>
<transmission name="Rev63_tran">
  <type>transmission_interface/SimpleTransmission</type>
  <joint name="Rev63">
    <hardwareInterface>PositionJointInterface</hardwareInterface>
  </joint>
  <actuator name="Rev63_actr">
    <hardwareInterface>PositionJointInterface</hardwareInterface>
    <mechanicalReduction>1</mechanicalReduction>
  </actuator>
</transmission>

<joint name="Rigid64" type="fixed">
  <origin rpy="0 0 0" xyz="-0.009772 -0.009773 0.0083"/>
  <parent link="SG90_detached_v44servo1"/>
  <child link="tibia11"/>
</joint>

<joint name="Rigid65" type="fixed">
  <origin rpy="0 0 0" xyz="-0.009773 0.009772 0.0083"/>
  <parent link="SG90_detached_v41servo1"/>
  <child link="tibia41"/>
</joint>

<joint name="Rigid66" type="fixed">
  <origin rpy="0 0 0" xyz="0.009772 0.009773 0.0083"/>
  <parent link="SG90_detached_v43servo1"/>
  <child link="tibia31"/>
</joint>

<joint name="Rigid67" type="fixed">
  <origin rpy="0 0 0" xyz="0.009773 -0.009772 0.0083"/>
  <parent link="SG90_detached_v42servo1"/>
  <child link="tibia21"/>
</joint>

<joint name="Rigid77" type="fixed">
  <origin rpy="0 0 0" xyz="-0.002368 0.002369 -0.06535"/>
  <parent link="tibia41"/>
  <child link="magnet41"/>
</joint>

<joint name="Rigid78" type="fixed">
  <origin rpy="0 0 0" xyz="0.002368 -0.002369 -0.06535"/>
  <parent link="tibia21"/>
  <child link="magnet21"/>
</joint>

<joint name="Rigid79" type="fixed">
  <origin rpy="0 0 0" xyz="-0.002369 -0.002368 -0.06545"/>
  <parent link="tibia11"/>
  <child link="magnet11"/>
</joint>

<joint name="Rigid80" type="fixed">
  <origin rpy="0 0 0" xyz="0.002369 0.002368 -0.06545"/>
  <parent link="tibia31"/>
  <child link="magnet31"/>
</joint>

<joint name="SG90_v141_splined-shaft" type="continuous">
  <origin rpy="0 0 0" xyz="0.011844 0.011844 -0.0039"/>
  <parent link="SG90_v141servo1"/>
  <child link="SG90_v141splined-drive1"/>
  <axis xyz="-0.0 0.0 -1.0"/>
</joint>
<transmission name="SG90_v141_splined-shaft_tran">
  <type>transmission_interface/SimpleTransmission</type>
  <joint name="SG90_v141_splined-shaft">
    <hardwareInterface>PositionJointInterface</hardwareInterface>
  </joint>
  <actuator name="SG90_v141_splined-shaft_actr">
    <hardwareInterface>PositionJointInterface</hardwareInterface>
    <mechanicalReduction>1</mechanicalReduction>
  </actuator>
</transmission>

<joint name="SG90_v141_horn" type="fixed">
  <origin rpy="0 0 0" xyz="0.0 0.0 0.01772"/>
  <parent link="SG90_v141splined-drive1"/>
  <child link="SG90_v141horn1"/>
</joint>

<joint name="SG90_v142_splined-shaft" type="continuous">
  <origin rpy="0 0 0" xyz="-0.011844 0.011844 -0.0039"/>
  <parent link="SG90_v142servo1"/>
  <child link="SG90_v142splined-drive1"/>
  <axis xyz="-0.0 0.0 -1.0"/>
</joint>
<transmission name="SG90_v142_splined-shaft_tran">
  <type>transmission_interface/SimpleTransmission</type>
  <joint name="SG90_v142_splined-shaft">
    <hardwareInterface>PositionJointInterface</hardwareInterface>
  </joint>
  <actuator name="SG90_v142_splined-shaft_actr">
    <hardwareInterface>PositionJointInterface</hardwareInterface>
    <mechanicalReduction>1</mechanicalReduction>
  </actuator>
</transmission>

<joint name="SG90_v142_horn" type="fixed">
  <origin rpy="0 0 0" xyz="0.0 0.0 0.01772"/>
  <parent link="SG90_v142splined-drive1"/>
  <child link="SG90_v142horn1"/>
</joint>

<joint name="SG90_v143_splined-shaft" type="continuous">
  <origin rpy="0 0 0" xyz="-0.011844 -0.011844 -0.0039"/>
  <parent link="SG90_v143servo1"/>
  <child link="SG90_v143splined-drive1"/>
  <axis xyz="-0.0 0.0 -1.0"/>
</joint>
<transmission name="SG90_v143_splined-shaft_tran">
  <type>transmission_interface/SimpleTransmission</type>
  <joint name="SG90_v143_splined-shaft">
    <hardwareInterface>PositionJointInterface</hardwareInterface>
  </joint>
  <actuator name="SG90_v143_splined-shaft_actr">
    <hardwareInterface>PositionJointInterface</hardwareInterface>
    <mechanicalReduction>1</mechanicalReduction>
  </actuator>
</transmission>

<joint name="SG90_v143_horn" type="fixed">
  <origin rpy="0 0 0" xyz="0.0 0.0 0.01772"/>
  <parent link="SG90_v143splined-drive1"/>
  <child link="SG90_v143horn1"/>
</joint>

<joint name="SG90_v144_splined-shaft" type="continuous">
  <origin rpy="0 0 0" xyz="0.011844 -0.011844 -0.0039"/>
  <parent link="SG90_v144servo1"/>
  <child link="SG90_v144splined-drive1"/>
  <axis xyz="-0.0 0.0 -1.0"/>
</joint>
<transmission name="SG90_v144_splined-shaft_tran">
  <type>transmission_interface/SimpleTransmission</type>
  <joint name="SG90_v144_splined-shaft">
    <hardwareInterface>PositionJointInterface</hardwareInterface>
  </joint>
  <actuator name="SG90_v144_splined-shaft_actr">
    <hardwareInterface>PositionJointInterface</hardwareInterface>
    <mechanicalReduction>1</mechanicalReduction>
  </actuator>
</transmission>

<joint name="SG90_v144_horn" type="fixed">
  <origin rpy="0 0 0" xyz="0.0 0.0 0.01772"/>
  <parent link="SG90_v144splined-drive1"/>
  <child link="SG90_v144horn1"/>
</joint>

<joint name="SG90_v145_splined-shaft" type="continuous">
  <origin rpy="0 0 0" xyz="0.007 0.001485 0.0"/>
  <parent link="SG90_v145servo1"/>
  <child link="SG90_v145splined-drive1"/>
  <axis xyz="0.707107 -0.707107 -0.0"/>
</joint>
<transmission name="SG90_v145_splined-shaft_tran">
  <type>transmission_interface/SimpleTransmission</type>
  <joint name="SG90_v145_splined-shaft">
    <hardwareInterface>PositionJointInterface</hardwareInterface>
  </joint>
  <actuator name="SG90_v145_splined-shaft_actr">
    <hardwareInterface>PositionJointInterface</hardwareInterface>
    <mechanicalReduction>1</mechanicalReduction>
  </actuator>
</transmission>

<joint name="SG90_v145_horn" type="fixed">
  <origin rpy="0 0 0" xyz="-0.01253 0.01253 0.0"/>
  <parent link="SG90_v145splined-drive1"/>
  <child link="SG90_v145horn1"/>
</joint>

<joint name="SG90_v146_splined-shaft" type="continuous">
  <origin rpy="0 0 0" xyz="-0.001485 0.007 0.0"/>
  <parent link="SG90_v146servo1"/>
  <child link="SG90_v146splined-drive1"/>
  <axis xyz="0.707107 0.707107 0.0"/>
</joint>
<transmission name="SG90_v146_splined-shaft_tran">
  <type>transmission_interface/SimpleTransmission</type>
  <joint name="SG90_v146_splined-shaft">
    <hardwareInterface>PositionJointInterface</hardwareInterface>
  </joint>
  <actuator name="SG90_v146_splined-shaft_actr">
    <hardwareInterface>PositionJointInterface</hardwareInterface>
    <mechanicalReduction>1</mechanicalReduction>
  </actuator>
</transmission>

<joint name="SG90_v146_horn" type="fixed">
  <origin rpy="0 0 0" xyz="-0.01253 -0.01253 0.0"/>
  <parent link="SG90_v146splined-drive1"/>
  <child link="SG90_v146horn1"/>
</joint>

<joint name="SG90_v147_splined-shaft" type="continuous">
  <origin rpy="0 0 0" xyz="0.001485 -0.007 0.0"/>
  <parent link="SG90_v147servo1"/>
  <child link="SG90_v147splined-drive1"/>
  <axis xyz="-0.707107 -0.707107 -0.0"/>
</joint>
<transmission name="SG90_v147_splined-shaft_tran">
  <type>transmission_interface/SimpleTransmission</type>
  <joint name="SG90_v147_splined-shaft">
    <hardwareInterface>PositionJointInterface</hardwareInterface>
  </joint>
  <actuator name="SG90_v147_splined-shaft_actr">
    <hardwareInterface>PositionJointInterface</hardwareInterface>
    <mechanicalReduction>1</mechanicalReduction>
  </actuator>
</transmission>

<joint name="SG90_v147_horn" type="fixed">
  <origin rpy="0 0 0" xyz="0.01253 0.01253 0.0"/>
  <parent link="SG90_v147splined-drive1"/>
  <child link="SG90_v147horn1"/>
</joint>

<joint name="SG90_v148_splined-shaft" type="continuous">
  <origin rpy="0 0 0" xyz="-0.007 -0.001485 0.0"/>
  <parent link="SG90_v148servo1"/>
  <child link="SG90_v148splined-drive1"/>
  <axis xyz="-0.707107 0.707107 0.0"/>
</joint>
<transmission name="SG90_v148_splined-shaft_tran">
  <type>transmission_interface/SimpleTransmission</type>
  <joint name="SG90_v148_splined-shaft">
    <hardwareInterface>PositionJointInterface</hardwareInterface>
  </joint>
  <actuator name="SG90_v148_splined-shaft_actr">
    <hardwareInterface>PositionJointInterface</hardwareInterface>
    <mechanicalReduction>1</mechanicalReduction>
  </actuator>
</transmission>

<joint name="SG90_v148_horn" type="fixed">
  <origin rpy="0 0 0" xyz="0.01253 -0.01253 0.0"/>
  <parent link="SG90_v148splined-drive1"/>
  <child link="SG90_v148horn1"/>
</joint>

</robot>
